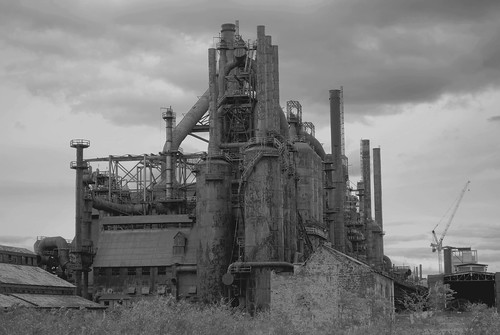building: (64, 16, 384, 302), (431, 235, 500, 315)
sky: (1, 1, 492, 239)
